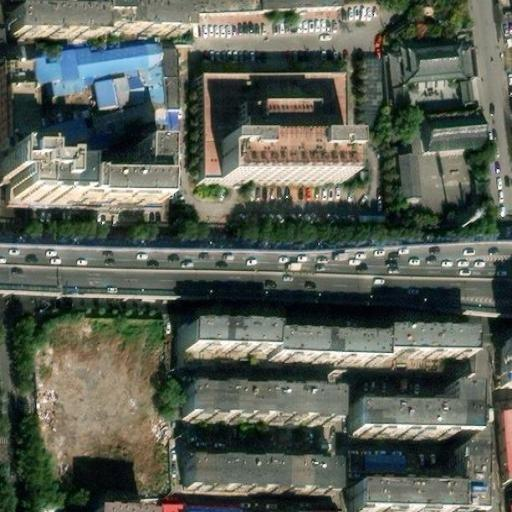building: (193, 69, 333, 176), (58, 348, 158, 485), (181, 324, 466, 363), (351, 440, 479, 506), (24, 30, 157, 85), (35, 99, 167, 152), (356, 381, 476, 431), (187, 447, 333, 484), (183, 392, 334, 427), (209, 142, 335, 176), (89, 59, 166, 112), (226, 106, 315, 144), (12, 158, 82, 206), (398, 52, 461, 87), (423, 122, 484, 157), (82, 176, 168, 199), (347, 451, 404, 477), (0, 63, 17, 150), (394, 157, 421, 205), (498, 406, 512, 483), (383, 58, 403, 111), (90, 495, 152, 512), (142, 136, 168, 176), (496, 336, 512, 386), (178, 503, 240, 512)
